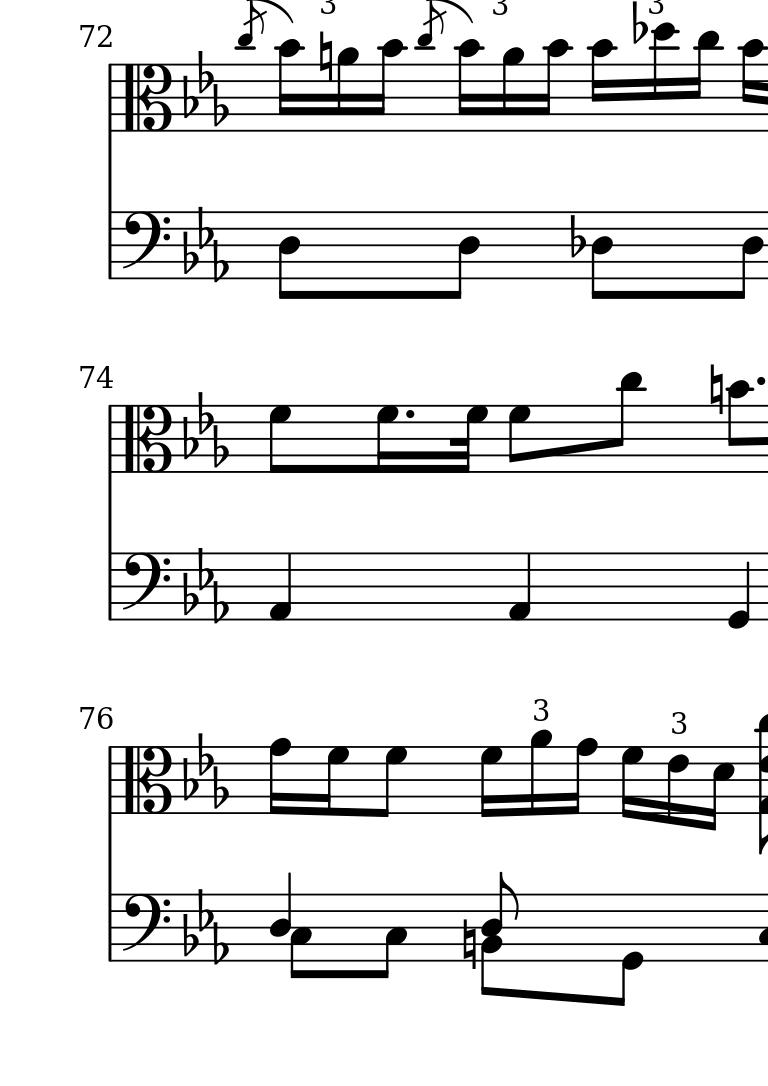16_10: (371, 38, 408, 134), (540, 38, 574, 133), (454, 38, 485, 134), (587, 38, 618, 134), (276, 38, 304, 134), (740, 37, 767, 133)
16_11: (689, 31, 724, 133)
16_12: (652, 21, 679, 133)
16_5: (705, 744, 736, 832)
16_6: (667, 744, 690, 825)
16_7: (318, 744, 350, 816), (619, 746, 645, 820), (479, 745, 504, 819), (375, 404, 400, 475)
16_8: (265, 737, 292, 817), (570, 738, 598, 815)
16_9: (528, 728, 553, 815), (336, 46, 359, 133), (501, 47, 523, 132)
2: (93, 22, 114, 50)
3: (532, 697, 550, 722), (670, 710, 687, 736)
32_7: (449, 404, 489, 475)
4: (96, 363, 115, 390)
4_0: (727, 551, 751, 628)
4_1: (266, 550, 294, 622), (507, 552, 534, 624)
4_3: (269, 868, 293, 961)
6: (95, 703, 114, 732)
7: (78, 703, 95, 732), (79, 21, 96, 49), (80, 362, 96, 391)
8_0: (611, 891, 644, 1007)
8_10: (725, 380, 755, 473)
8_11: (612, 372, 647, 473)
8_2_4: (479, 875, 520, 997)
8_3: (375, 891, 408, 980), (291, 891, 312, 980)
8_4: (447, 209, 482, 300), (733, 208, 764, 300), (274, 209, 301, 300), (589, 210, 614, 300)
8_7: (375, 746, 409, 820), (266, 403, 293, 475), (506, 405, 534, 474)
Acciaccature: (233, 1, 267, 134), (415, 1, 446, 133)
Cclef: (120, 744, 174, 813), (122, 404, 174, 473), (123, 63, 174, 133)
E_F: (179, 391, 228, 471), (181, 50, 229, 129), (181, 732, 228, 812), (184, 547, 229, 622), (182, 206, 227, 280), (183, 887, 226, 960)
Fclef: (120, 891, 172, 962), (119, 210, 172, 279), (122, 551, 174, 621)
Flat: (569, 214, 587, 259), (630, 3, 647, 43)
Natural: (317, 32, 333, 84), (462, 918, 478, 970), (709, 365, 723, 415)
Single_barline: (103, 212, 120, 279), (102, 554, 119, 620), (102, 895, 119, 961), (102, 65, 118, 132), (102, 407, 118, 472), (103, 748, 118, 813)
Slur: (253, 1, 294, 22), (435, 1, 476, 22)
dot: (401, 407, 417, 422), (753, 375, 767, 388)
